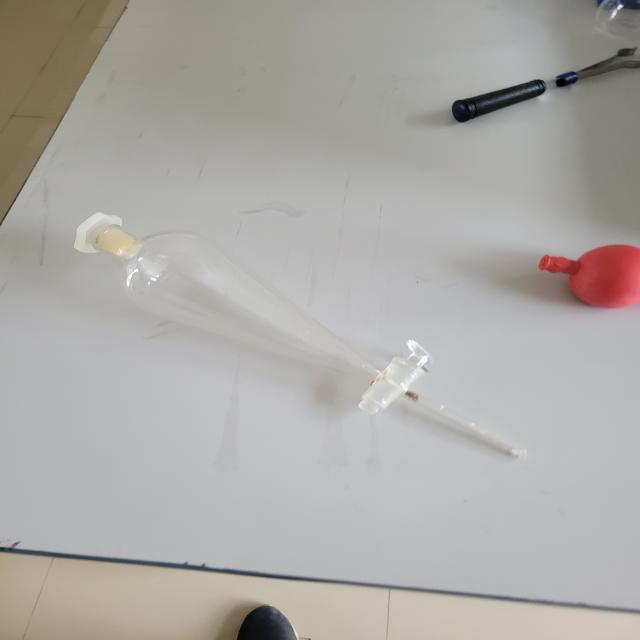Separating_Funnel: (24, 192, 546, 489)
